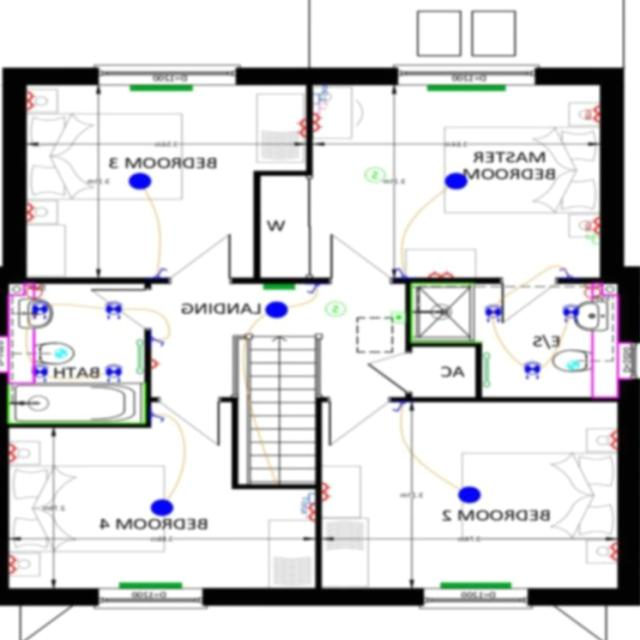Cat 6 Data Socket: (302, 492, 317, 513), (314, 82, 329, 103)
Ceiling Mounted Continuous Extract FanWith Boost Mode Activated By Light Switch: (56, 347, 68, 358), (568, 360, 580, 370)
Co-Ax TV Socket: (314, 100, 328, 113)
Double Socket: (609, 429, 620, 448), (27, 90, 38, 109), (27, 202, 38, 220), (430, 269, 454, 277), (10, 554, 20, 573), (609, 542, 619, 560), (307, 502, 317, 520), (10, 444, 20, 462), (323, 482, 332, 500), (314, 112, 323, 130), (298, 118, 307, 136)
Full Height Tiling: (8, 383, 146, 423), (412, 282, 484, 342)
Light Switch: (307, 283, 321, 294), (392, 401, 407, 411), (152, 335, 165, 346), (152, 412, 165, 422), (560, 267, 572, 277), (155, 267, 168, 276), (397, 268, 408, 276)
Low Energy Downlighter: (105, 363, 124, 382), (106, 300, 124, 318), (32, 300, 49, 318), (524, 361, 542, 378), (32, 364, 49, 381), (564, 304, 580, 322), (486, 304, 502, 322)
Low Energy Pendant Light: (266, 300, 289, 318), (152, 498, 174, 516), (129, 172, 152, 189), (446, 172, 469, 188), (459, 486, 481, 502)
Mains Wired Smoke Detector: (326, 300, 347, 316), (366, 166, 386, 181)
Programmable Room Thermostat: (392, 310, 407, 322)
Radiator: (428, 84, 506, 90), (442, 582, 512, 588), (119, 582, 183, 588), (130, 85, 193, 90), (264, 283, 296, 289)
Shaver Socket: (585, 282, 602, 300), (27, 282, 44, 300)
Single Socket: (152, 359, 161, 367)
Telephone Socket: (587, 233, 600, 244)
USB Double Socket: (586, 216, 601, 234), (586, 104, 600, 122)
